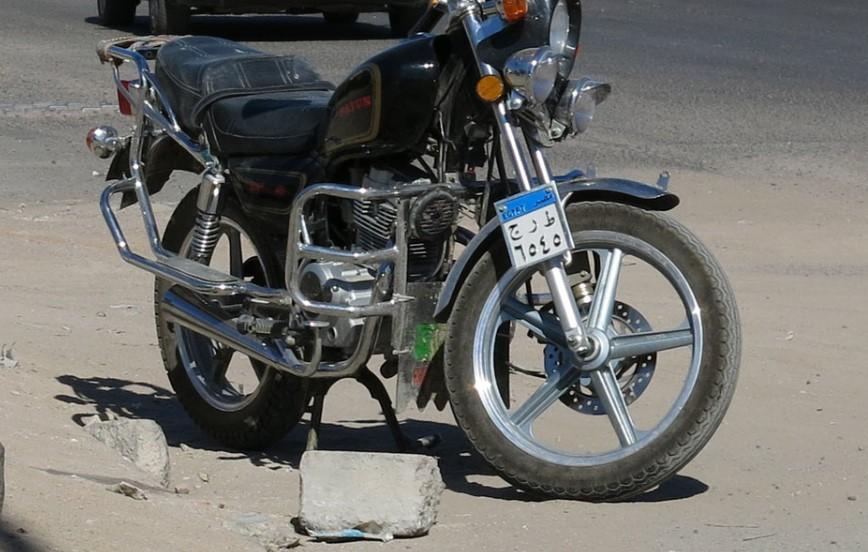License Plate: (496, 182, 575, 269)
